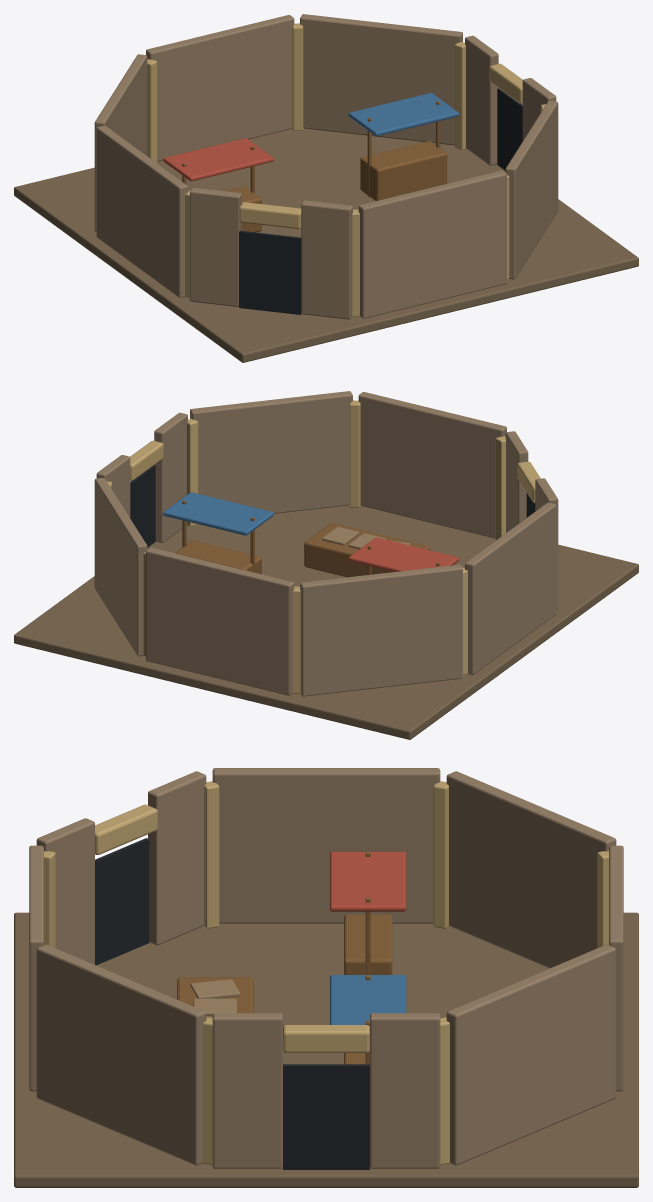
Rendered from traders_pit_3981.glb.
The picture shows the model from 3 angles, top to bottom: view 1: azimuth 30°, elevation 25°; view 2: azimuth 150°, elevation 25°; view 3: azimuth 270°, elevation 25°; orthographic projection. The views are drawn at different scales.
Parts seen in each view (by area): view 1: Room floor, S solid wall, N solid wall, NE solid wall, W solid wall, SE solid wall, SW doorway left, SW doorway right, SW passage shadow, Trader counter.001, E doorway left, NW solid wall (+12 smaller); view 2: Room floor, NW solid wall, N solid wall, SE solid wall, S solid wall, W solid wall, NE solid wall, E doorway right, Hanging canopy.001, Trading exchange table, Hanging canopy, SW doorway left (+11 smaller); view 3: Room floor, W solid wall, NE solid wall, SE solid wall, NW solid wall, E doorway left, E doorway right, E passage shadow, SW doorway right, SW passage shadow, SW doorway left, Hanging canopy (+15 smaller).
Part boxes in pixels (x1,y1,x2,y2): Room floor: (14, 128, 638, 362); S solid wall: (358, 170, 506, 318); N solid wall: (146, 15, 294, 161); NE solid wall: (300, 14, 462, 145); W solid wall: (96, 125, 187, 297); SE solid wall: (505, 101, 558, 279); SW doorway left: (301, 200, 352, 319); SW doorway right: (190, 187, 241, 306); SW passage shadow: (239, 230, 301, 314); Trader counter.001: (360, 141, 447, 201); E doorway left: (465, 35, 498, 165); NW solid wall: (94, 54, 147, 231); Room floor: (14, 505, 638, 739); NW solid wall: (300, 564, 462, 696); N solid wall: (146, 547, 294, 695); SE solid wall: (190, 391, 352, 513); S solid wall: (358, 392, 506, 538); W solid wall: (465, 502, 556, 674); NE solid wall: (94, 478, 147, 656); E doorway right: (154, 412, 187, 542); Hanging canopy.001: (163, 492, 273, 535); Trading exchange table: (304, 523, 429, 577); Hanging canopy: (348, 537, 458, 571); SW doorway left: (505, 431, 528, 532); Room floor: (14, 912, 638, 1187); W solid wall: (212, 768, 440, 923); NE solid wall: (446, 944, 616, 1165); SE solid wall: (36, 944, 206, 1165); NW solid wall: (446, 771, 616, 968); E doorway left: (370, 1013, 440, 1168); E doorway right: (212, 1013, 282, 1168); E passage shadow: (283, 1064, 369, 1169); SW doorway right: (148, 771, 206, 945); SW passage shadow: (95, 838, 149, 965); SW doorway left: (36, 818, 94, 964); Hanging canopy: (330, 851, 406, 911).
Size of the model in its own units: 18 by 5.2 by 18.
